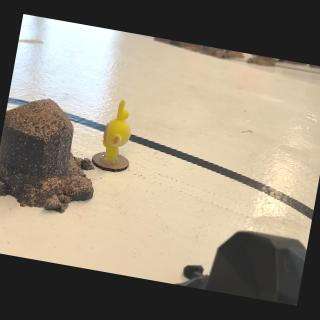teletubby: (102, 100, 131, 163)
